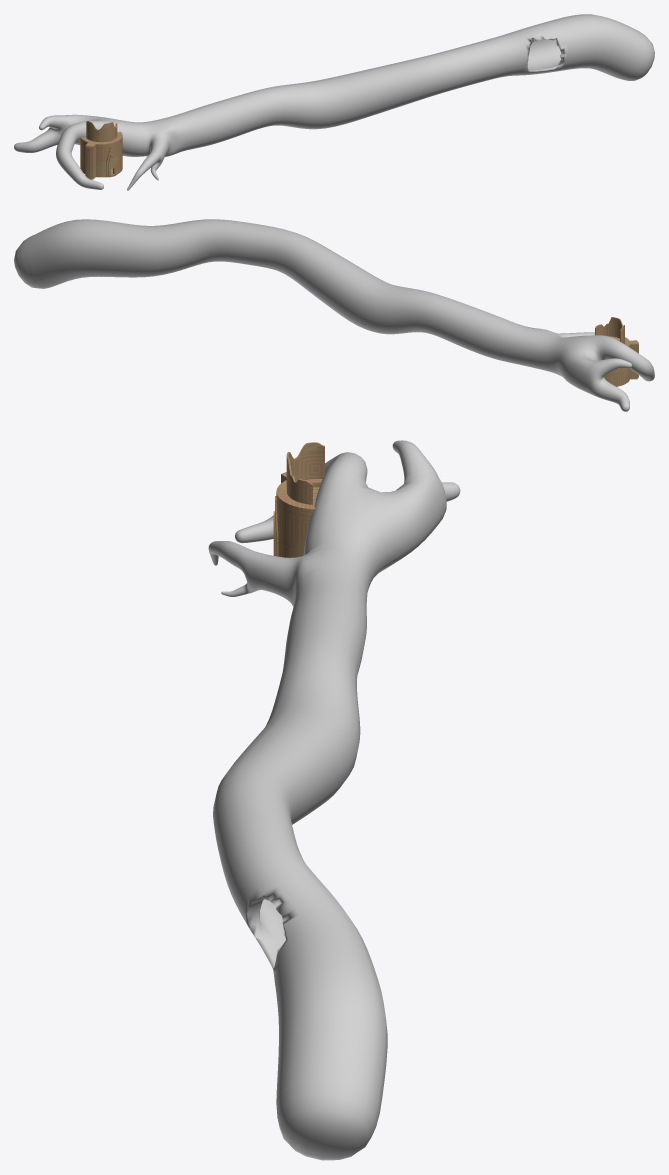
Rendered from Research Station.fbx.
The picture shows the model from 3 angles, top to bottom: view 1: azimuth 30°, elevation 25°; view 2: azimuth 150°, elevation 25°; view 3: azimuth 270°, elevation 25°; orthographic projection. The views are drawn at different scales.
Parts seen in each view (by area): view 1: Cube.001, Cylinder; view 2: Cube.001, Cylinder; view 3: Cube.001, Cylinder.
Boxes of the visible parts, bbox=[...] form: Cube.001: bbox=[14, 14, 654, 190]; Cylinder: bbox=[80, 121, 122, 179]; Cube.001: bbox=[14, 219, 654, 411]; Cylinder: bbox=[595, 317, 638, 386]; Cube.001: bbox=[208, 440, 460, 1160]; Cylinder: bbox=[273, 442, 324, 557].
Size of the model in its own units: 31442 by 4579 by 5660.
